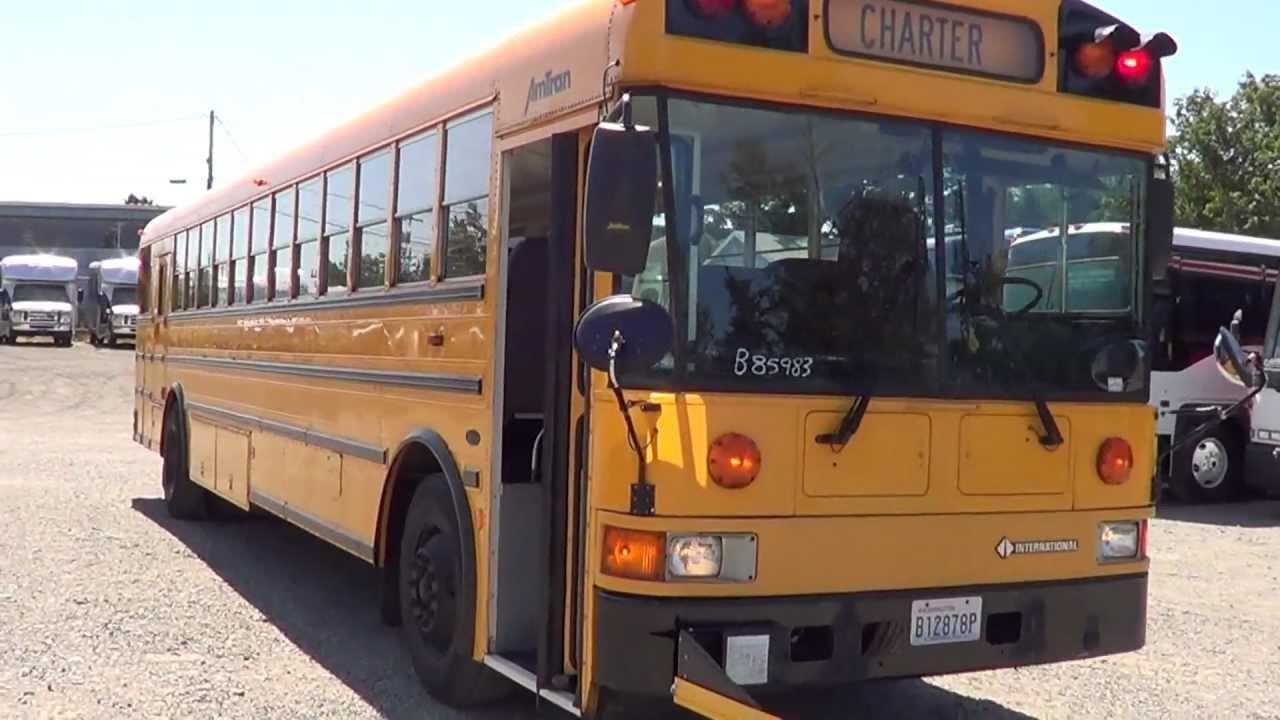Bus: (129, 0, 1186, 720)
